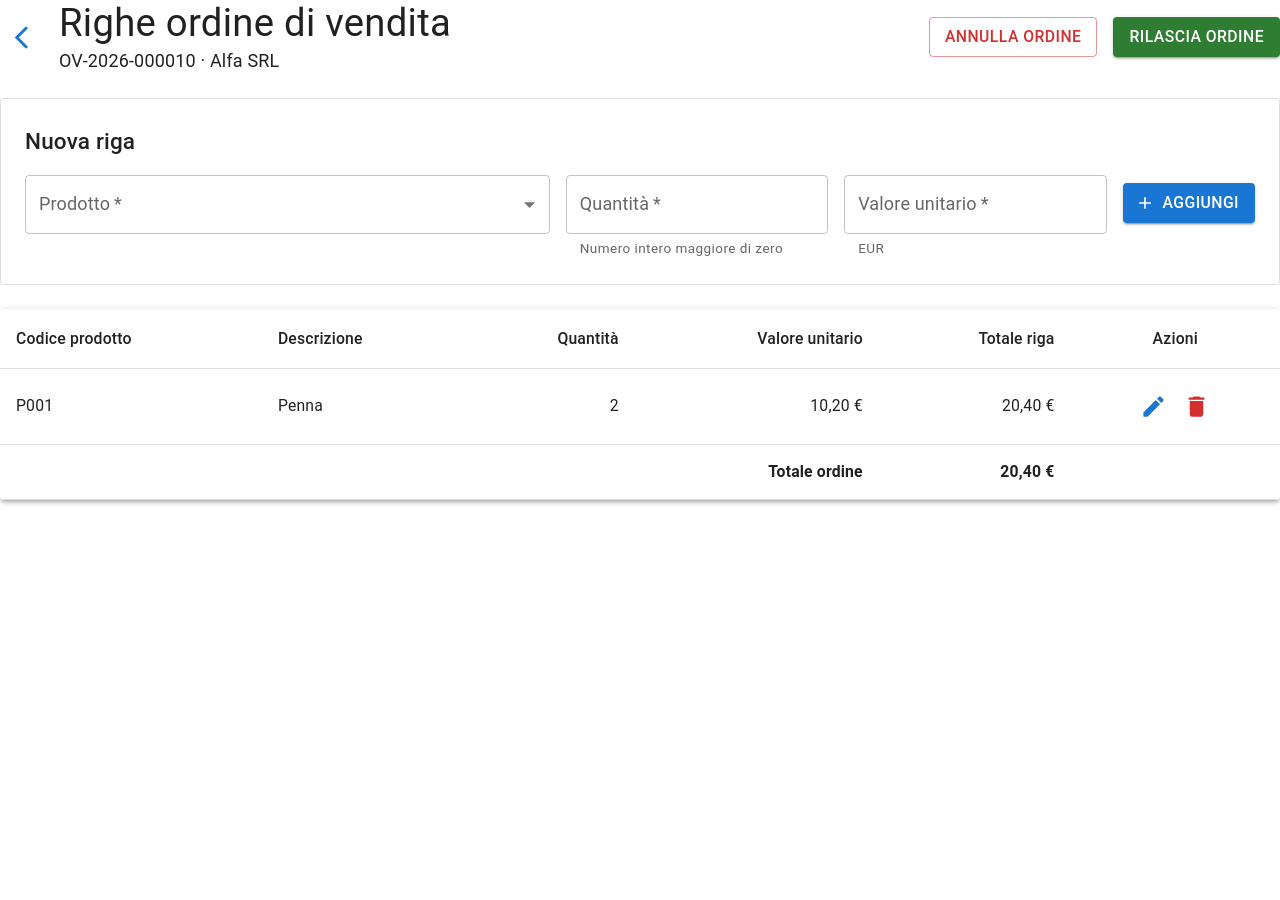
Scenario: RigheOrdineVendita › rilascia l ordine dopo la conferma
Expected: the text "P001" is shown, [0,368,262,444]
Click the button "Rilascia ordine". click: (1197, 37)
box: [1114,17,1279,57]
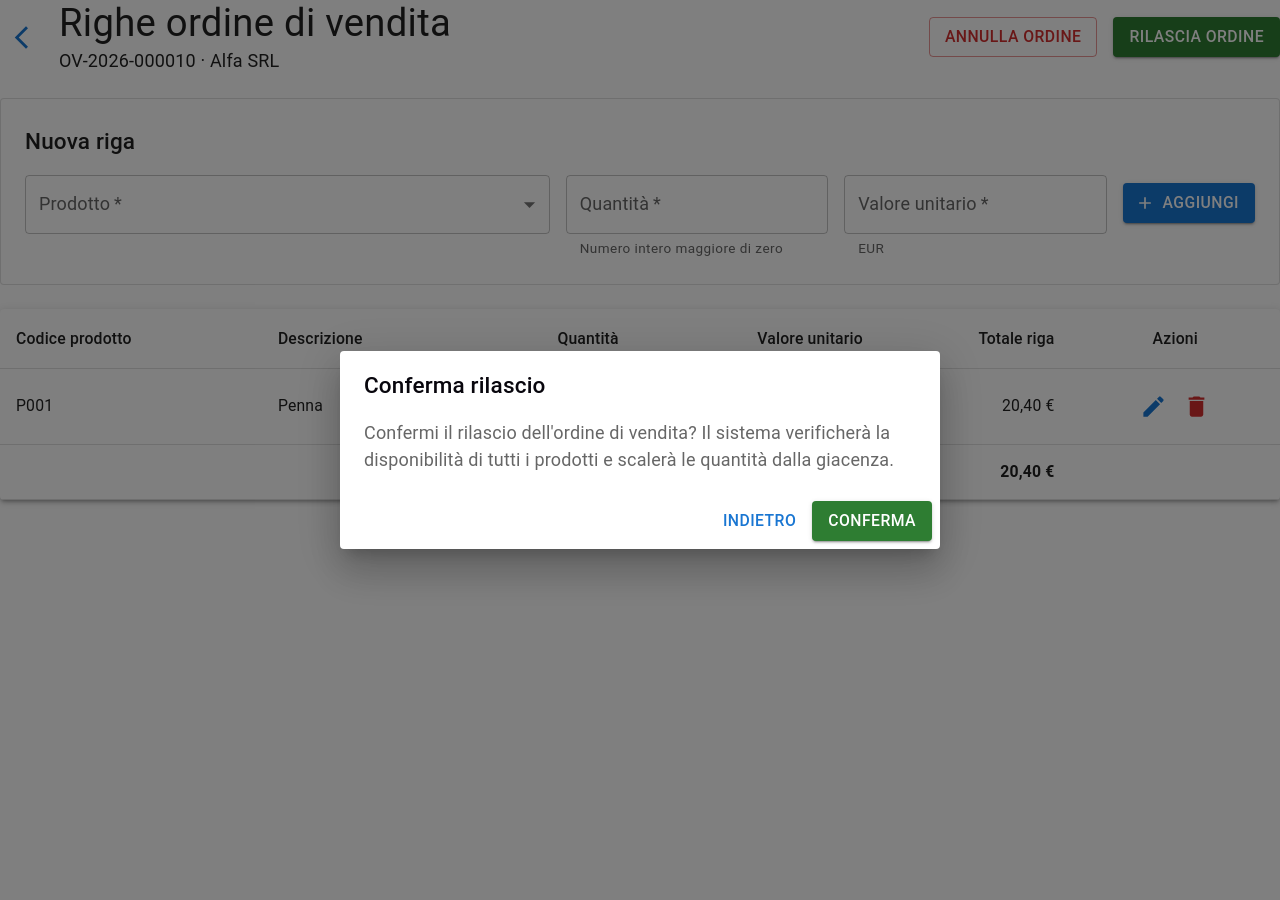
Now the text "Confermi il rilascio" is shown, box [364,422,894,470]
Click the button "Conferma". click: (872, 521)
box: [812,501,932,541]
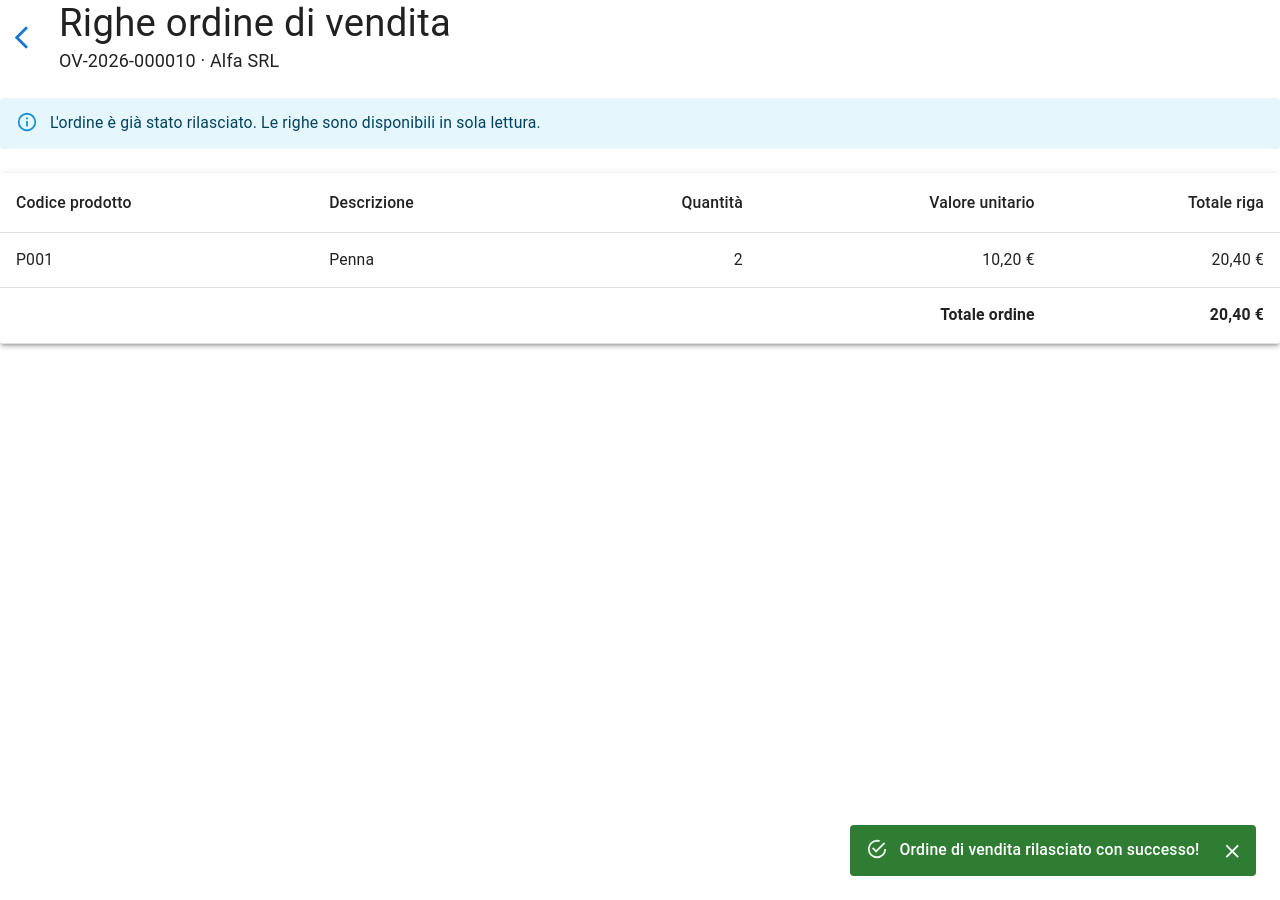
Now the text "Ordine di vendita rilasciato con successo!" is shown, box [900,840,1200,860]
Now the button "Rilascia ordine" is gone
